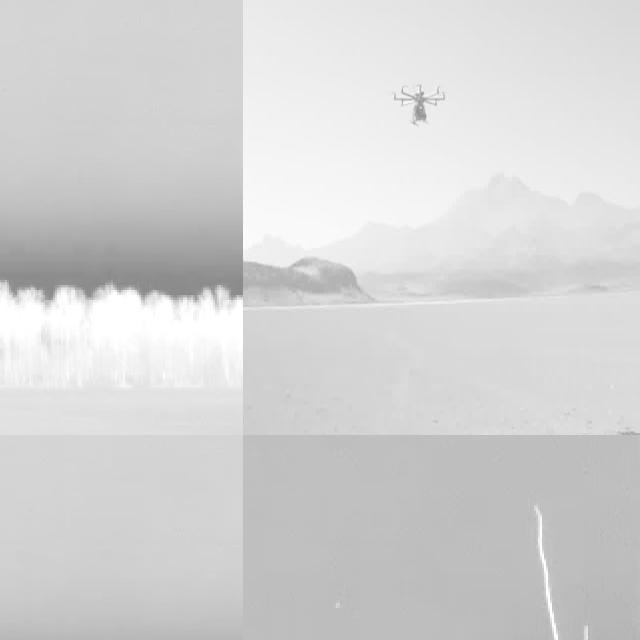0: (324, 592, 344, 619)
drone: (390, 78, 449, 128)
